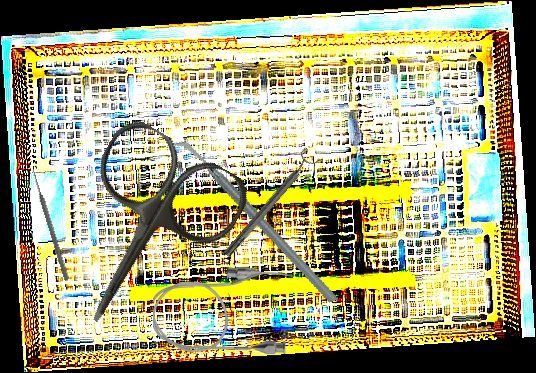Cannula: (152, 265, 293, 357)
Chopper: (169, 107, 339, 336)
Fixation Ring: (217, 146, 322, 262)
Iris Scissors: (28, 112, 257, 358)
Pusher: (29, 168, 71, 281)
